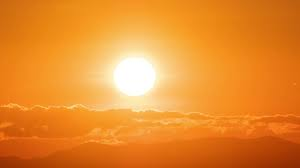sun: (108, 53, 157, 96)
